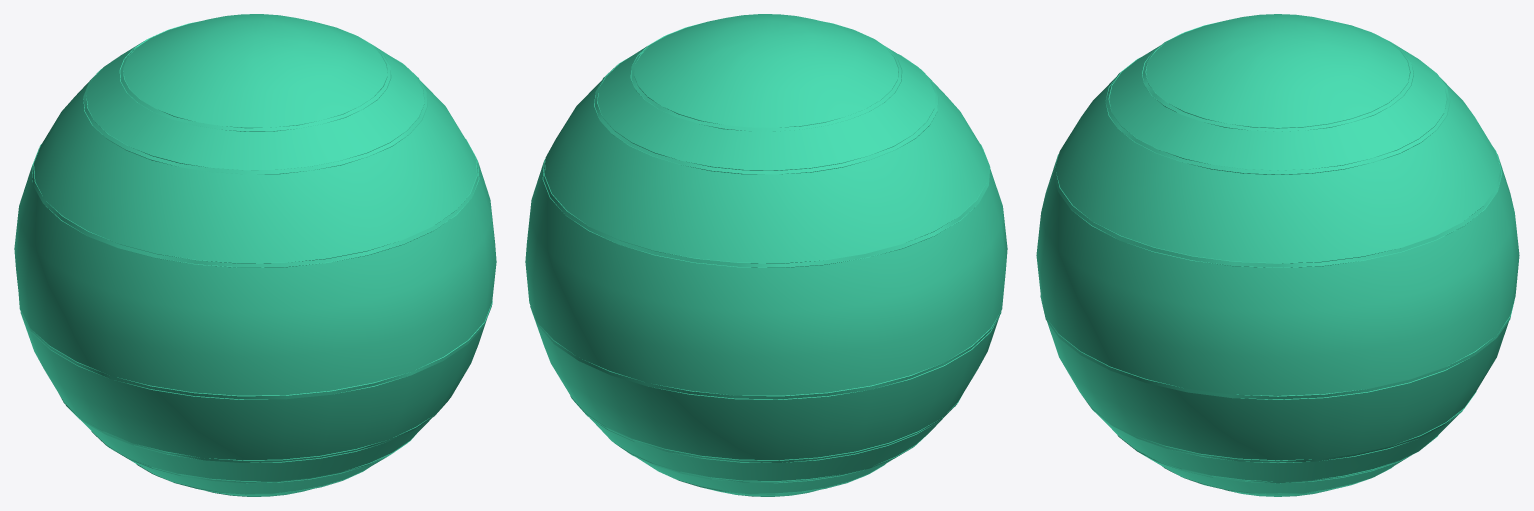
The model's file is Fitnes ball 4.FBX.
3 views of the same model, side by side, from view 1: azimuth 30°, elevation 25°; view 2: azimuth 150°, elevation 25°; view 3: azimuth 270°, elevation 25° (orthographic).
Parts seen in each view (by area): view 1: fitnes ball 4; view 2: fitnes ball 4; view 3: fitnes ball 4.
Boxes of the visible parts, x1,y1,x2,y2 form: fitnes ball 4: [14, 14, 496, 496]; fitnes ball 4: [525, 14, 1007, 496]; fitnes ball 4: [1036, 14, 1519, 496].
Bounding box in the file's own units: 47.23 × 47.23 × 47.23.
1 material, 1 textured.
